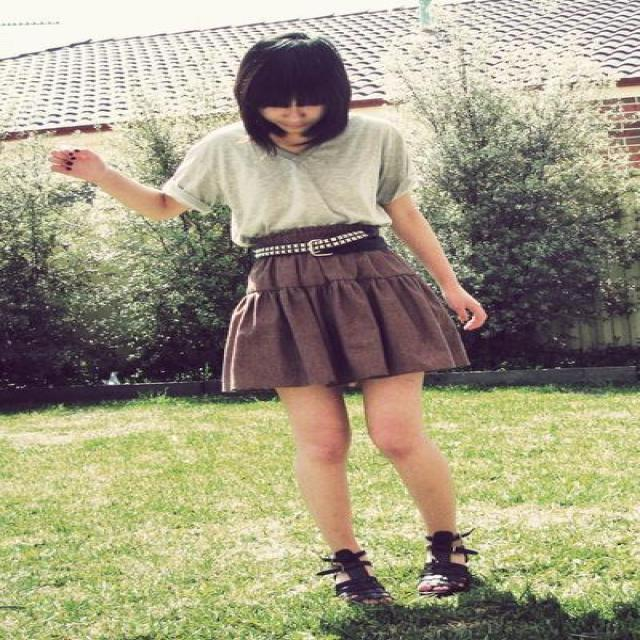shirt: (141, 115, 403, 242)
shoe: (326, 531, 486, 606)
skirt: (226, 250, 468, 396)
